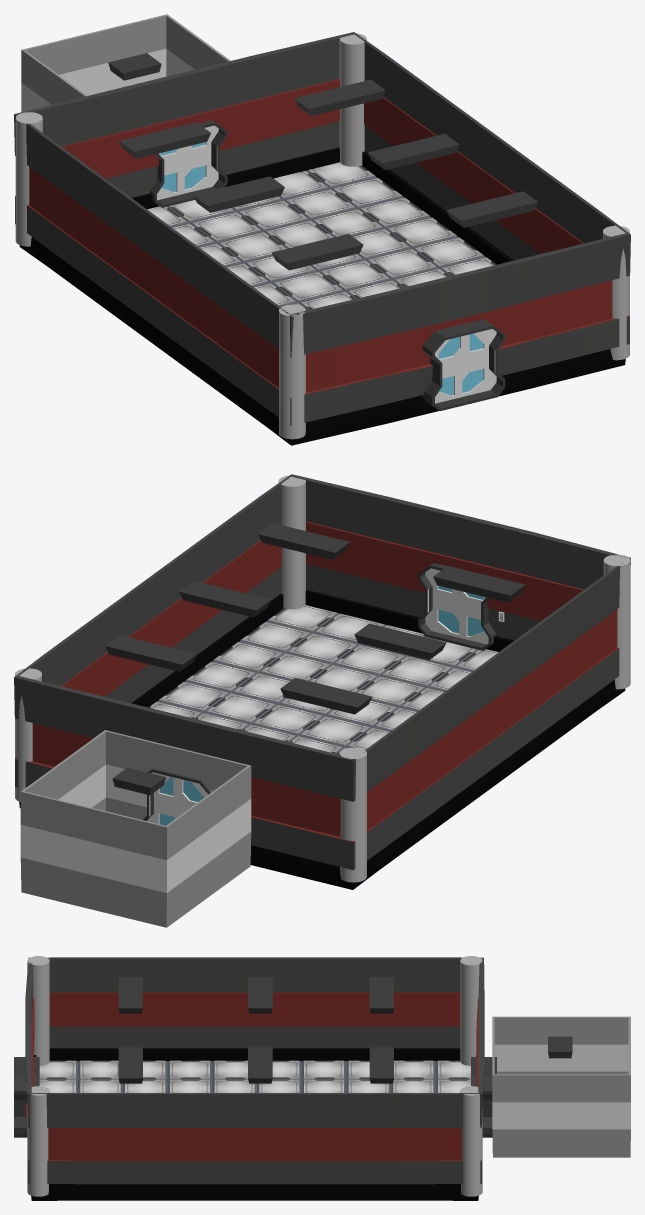
File: Segap 01 29 Puzzle 5.fbx
3 renders of one model, top to bottom at view 1: azimuth 30°, elevation 25°; view 2: azimuth 150°, elevation 25°; view 3: azimuth 270°, elevation 25°, orthographic. The views are drawn at different scales.
Parts seen in each view (by area): view 1: Walls.014, Walls.013, Plane.051, Cylinder.059, Cube.189, Cube.191, Cube.185, Cube.184, Cube.180, Cube.181, Cube.183, Cube.182 (+5 smaller); view 2: Walls.014, Plane.051, Walls.013, Cylinder.059, Cube.185, Cube.183, Cube.184, Cube.180, Cube.182, Cube.181, Cube.191, Cube.189 (+4 smaller); view 3: Walls.014, Plane.051, Walls.013, Cylinder.059, Cube.189, Cube.186, Cube.180, Cube.181, Cube.182, Cube.183, Cube.184, Cube.185 (+1 smaller).
Boxes of the visible parts, x1=… form: Walls.014: x1=14, y1=32, x2=630, y2=445; Walls.013: x1=147, y1=162, x2=496, y2=310; Plane.051: x1=21, y1=14, x2=230, y2=112; Cylinder.059: x1=15, y1=33, x2=629, y2=439; Cube.189: x1=422, y1=319, x2=505, y2=410; Cube.191: x1=458, y1=329, x2=496, y2=397; Cube.185: x1=119, y1=122, x2=210, y2=158; Cube.184: x1=193, y1=176, x2=284, y2=212; Cube.180: x1=446, y1=191, x2=538, y2=227; Cube.181: x1=368, y1=133, x2=459, y2=170; Cube.183: x1=272, y1=234, x2=363, y2=270; Cube.182: x1=294, y1=79, x2=385, y2=115; Walls.014: x1=14, y1=474, x2=630, y2=889; Plane.051: x1=20, y1=730, x2=251, y2=927; Walls.013: x1=148, y1=605, x2=498, y2=754; Cylinder.059: x1=15, y1=475, x2=630, y2=882; Cube.185: x1=280, y1=678, x2=372, y2=714; Cube.183: x1=433, y1=566, x2=524, y2=602; Cube.184: x1=354, y1=623, x2=446, y2=660; Cube.180: x1=258, y1=523, x2=349, y2=559; Cube.182: x1=105, y1=635, x2=196, y2=671; Cube.181: x1=179, y1=581, x2=270, y2=617; Cube.191: x1=425, y1=568, x2=462, y2=638; Cube.189: x1=418, y1=563, x2=495, y2=650; Walls.014: x1=25, y1=957, x2=484, y2=1200; Plane.051: x1=492, y1=1016, x2=630, y2=1157; Walls.013: x1=39, y1=1060, x2=470, y2=1092; Cylinder.059: x1=27, y1=956, x2=482, y2=1196; Cube.189: x1=14, y1=1057, x2=39, y2=1137; Cube.186: x1=471, y1=1057, x2=496, y2=1137; Cube.180: x1=118, y1=1047, x2=142, y2=1083; Cube.181: x1=248, y1=1047, x2=272, y2=1083; Cube.182: x1=369, y1=1047, x2=393, y2=1083; Cube.183: x1=118, y1=977, x2=142, y2=1013; Cube.184: x1=248, y1=977, x2=272, y2=1013; Cube.185: x1=369, y1=977, x2=393, y2=1013.
Size of the model in its own units: 1478 by 540 by 2761.
15 materials, 1 textured.
